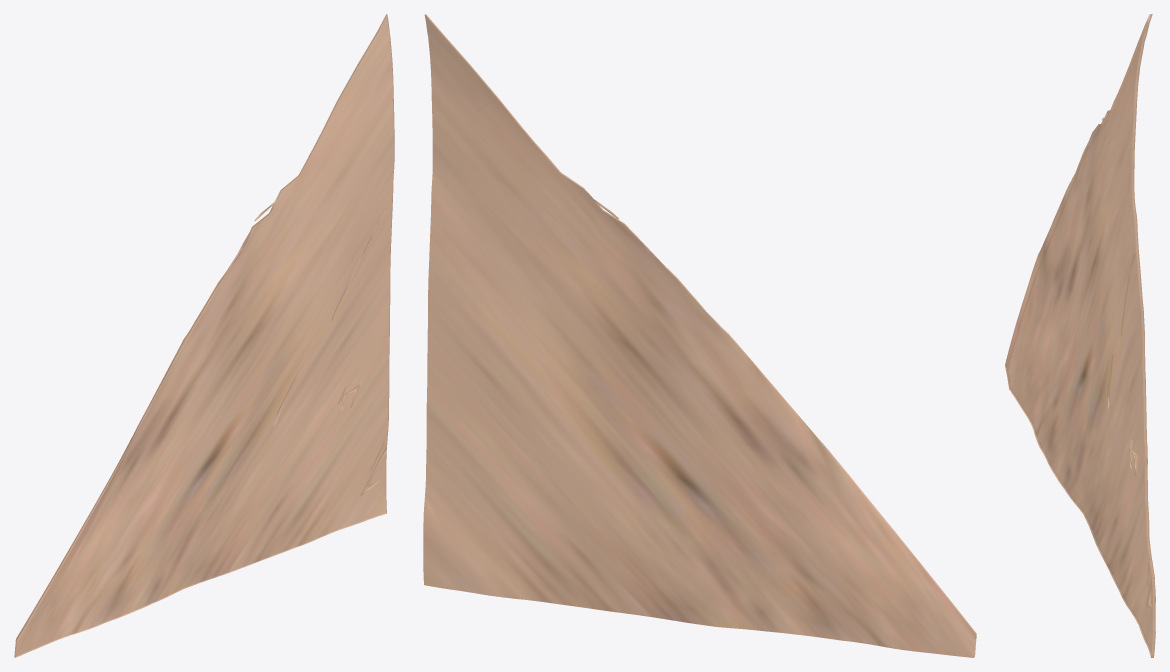
3 renders of one model, left to right at view 1: azimuth 30°, elevation 25°; view 2: azimuth 150°, elevation 25°; view 3: azimuth 270°, elevation 25°, orthographic. The views are drawn at different scales.
Bounding box in the file's own units: 10.95 × 12.25 × 2.6.
1 material, 1 textured.
